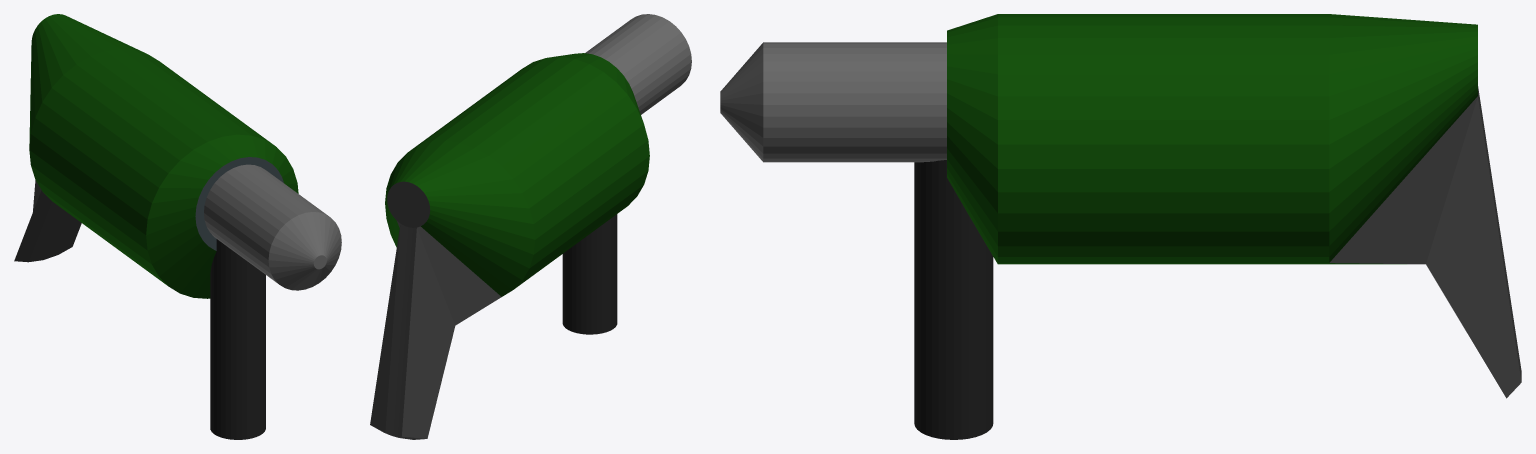
The model's file is Perceuse.fbx.
The picture shows the model from 3 angles, left to right: view 1: azimuth 30°, elevation 25°; view 2: azimuth 150°, elevation 25°; view 3: azimuth 270°, elevation 25°; orthographic projection. The views are drawn at different scales.
Parts seen in each view (by area): view 1: Cylinder.001; view 2: Cylinder.001; view 3: Cylinder.001.
Boxes of the visible parts, x1,y1,x2,y2 form: Cylinder.001: [14, 14, 341, 439]; Cylinder.001: [370, 14, 691, 439]; Cylinder.001: [720, 14, 1521, 439].
Size of the model in its own units: 27.28 by 47.75 by 87.19.
1 material, 1 textured.
